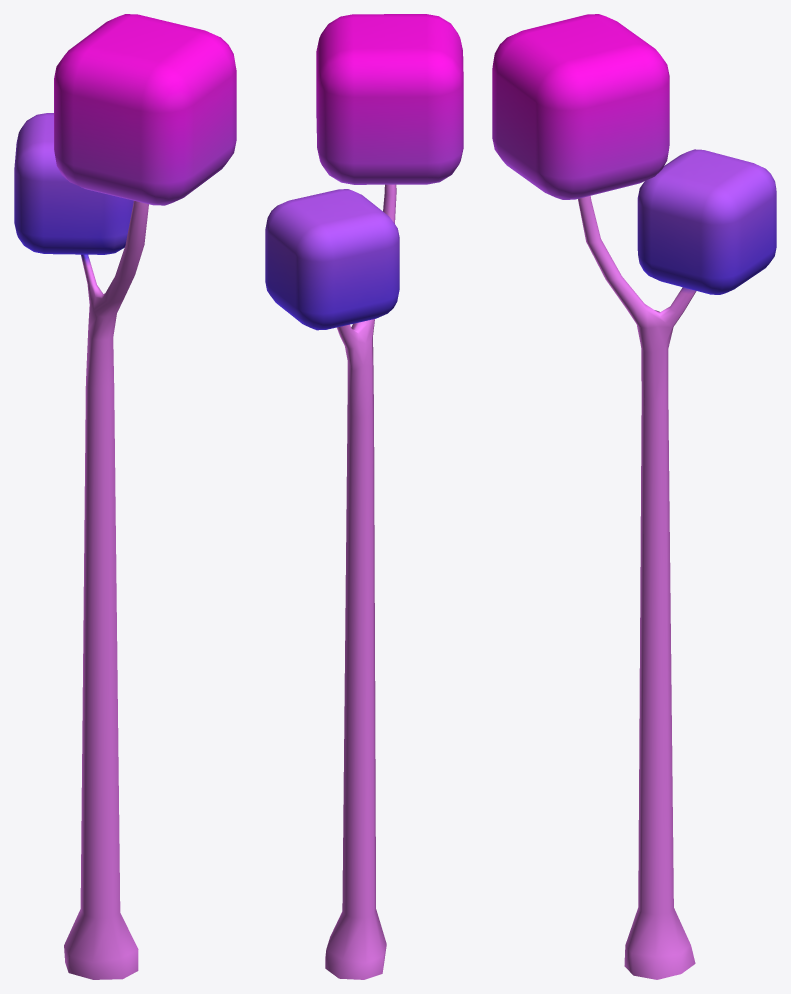
The model's file is Tree02.fbx.
3 renders of one model, left to right at view 1: azimuth 30°, elevation 25°; view 2: azimuth 150°, elevation 25°; view 3: azimuth 270°, elevation 25°, orthographic. The views are drawn at different scales.
Visible parts, largest first — view 1: Tree02; view 2: Tree02; view 3: Tree02.
Part boxes in pixels (<box>): Tree02: <box>14,14,236,979</box>; Tree02: <box>265,14,463,979</box>; Tree02: <box>492,14,776,979</box>.
Bounding box in the file's own units: 801 × 4622 × 1285.
